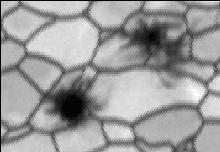good_void: (118, 11, 199, 97), (39, 69, 106, 131)
